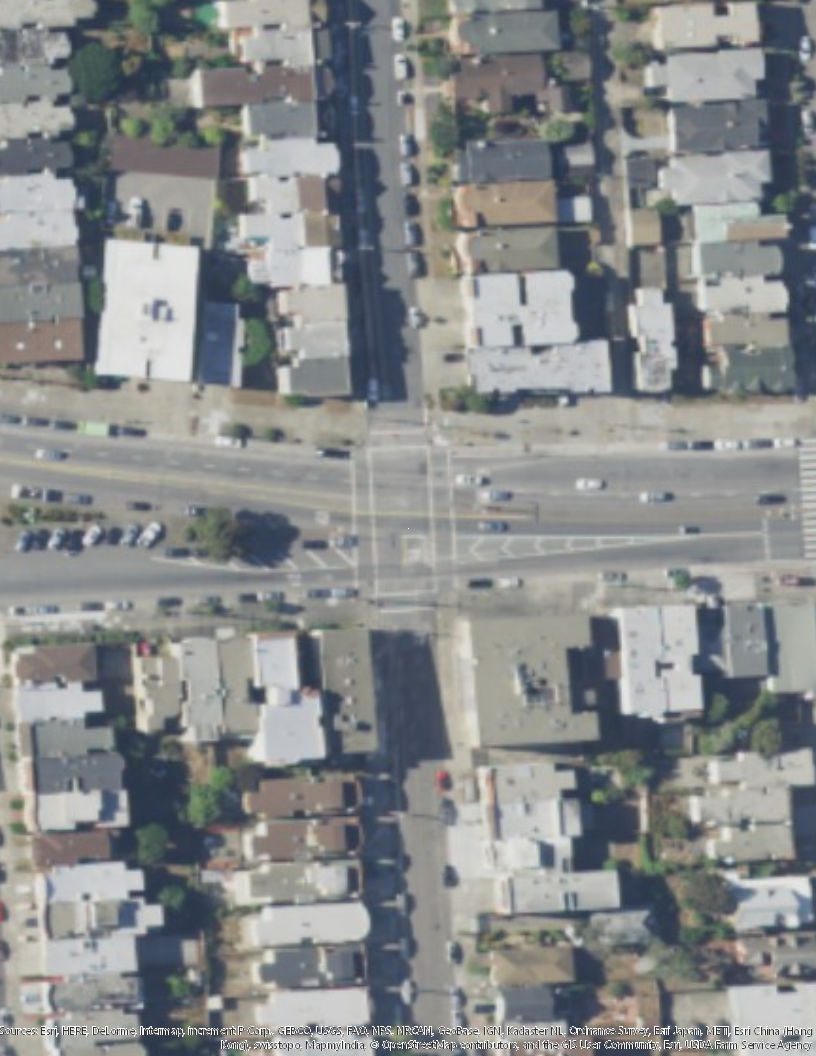zebracross: (795, 437, 816, 561)
